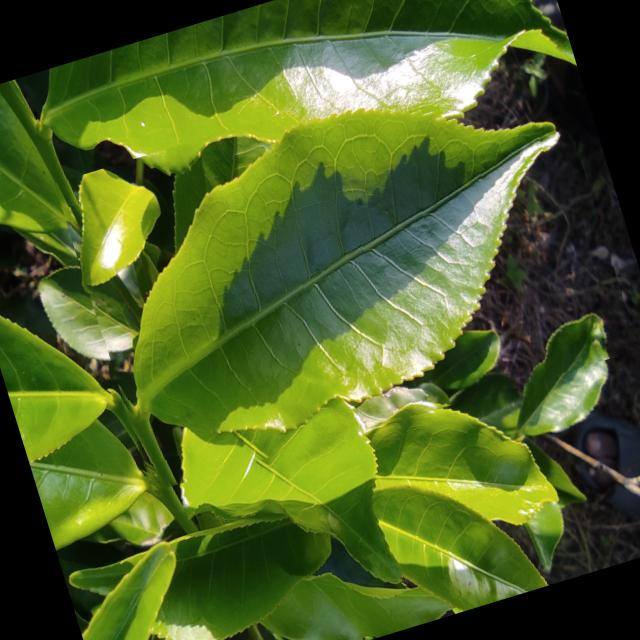Category B(2-4 days): (54, 33, 638, 500)
